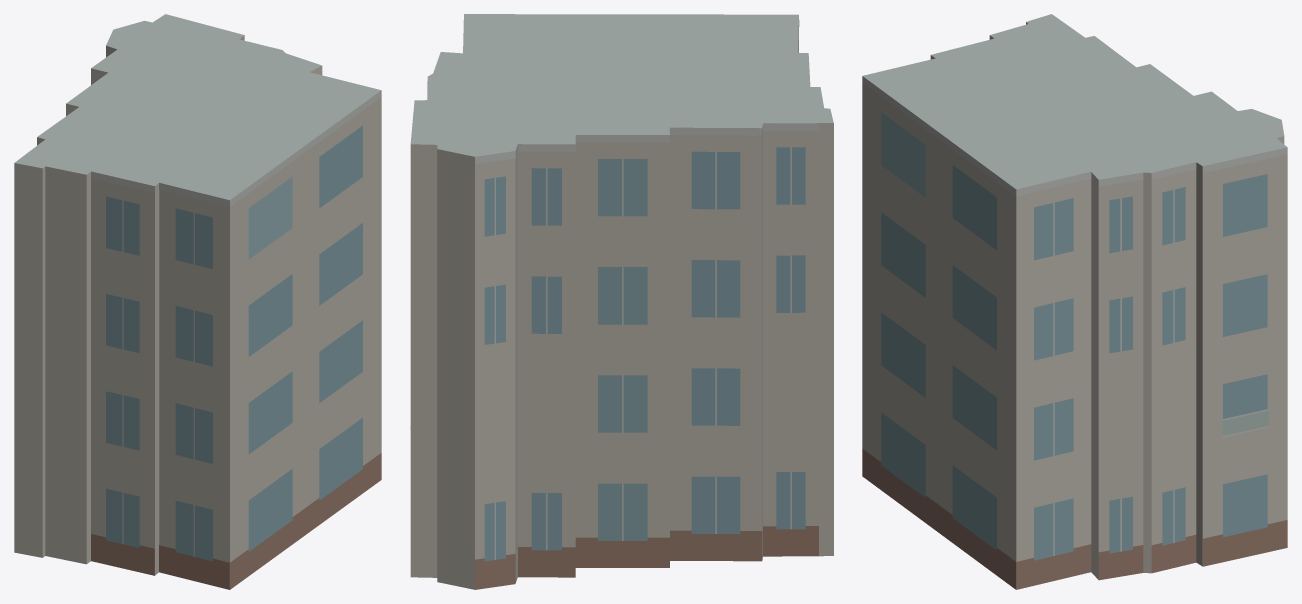
The model's file is survey-upis-32964543.glb.
3 views of the same model, side by side, from view 1: azimuth 30°, elevation 25°; view 2: azimuth 150°, elevation 25°; view 3: azimuth 270°, elevation 25° (orthographic). The views are drawn at different scales.
Parts seen in each view (by area): view 1: survey-upis-32964543.tmp; view 2: survey-upis-32964543.tmp; view 3: survey-upis-32964543.tmp.
Part boxes in pixels (left/top/right/bottom): survey-upis-32964543.tmp: left=14, top=14, right=381, bottom=589; survey-upis-32964543.tmp: left=410, top=14, right=833, bottom=589; survey-upis-32964543.tmp: left=862, top=14, right=1287, bottom=589.
Size of the model in its own units: 13.36 by 14.2 by 13.68.
